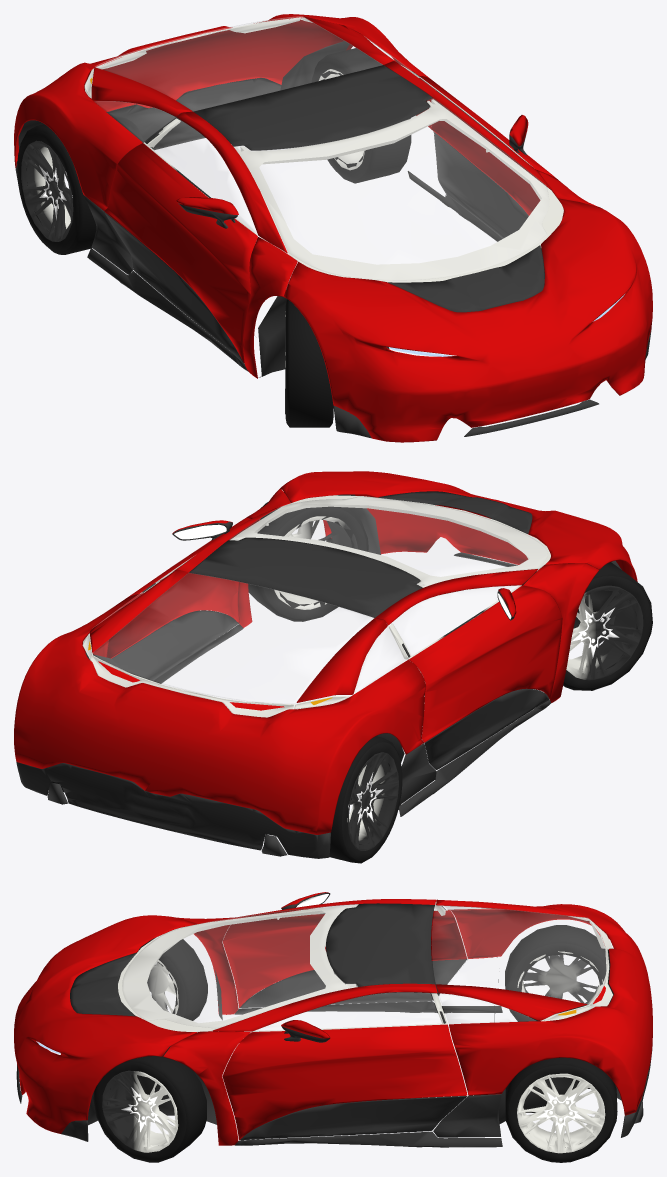
File: car_bot.glb
3 renders of one model, top to bottom at view 1: azimuth 30°, elevation 25°; view 2: azimuth 150°, elevation 25°; view 3: azimuth 270°, elevation 25°, orthographic. The views are drawn at different scales.
Visible parts, largest first — view 1: BodyHood, BodyWindshield, BodyRearPanelsColor1, BodyRearwindow, BodyDoorRColor1, BodyWindshieldGasket, BodyRoofPanel, BodyPanelsColor2, BodyPillars, BodyHoodTopgrill, WheelFrontR, BodyDoorLColor2 (+10 smaller); view 2: BodyRearPanelsColor1, BodyRearwindow, BodyWindshield, BodyPanelsColor2, BodyDoorRColor1, BodyHood, BodyRoofPanel, BodyPillars, BodyWindshieldGasket, WheelFrontRRim, BodyDoorLColor1, BodyDoorLColor2 (+11 smaller); view 3: BodyRearPanelsColor1, BodyWindshield, BodyDoorLColor1, BodyHood, BodyRearwindow, BodyPillars, BodyRoofPanel, BodyPanelsColor2, BodyDoorRColor1, BodyWindshieldGasket, BodyDoorLColor2, WheelFrontL (+14 smaller).
Boxes of the visible parts, bbox=[...] form: BodyHood: bbox=[284, 198, 652, 442]; BodyWindshield: bbox=[234, 98, 549, 280]; BodyRearPanelsColor1: bbox=[14, 14, 435, 210]; BodyRearwindow: bbox=[95, 16, 382, 110]; BodyDoorRColor1: bbox=[104, 143, 257, 363]; BodyWindshieldGasket: bbox=[234, 99, 563, 282]; BodyRoofPanel: bbox=[193, 65, 432, 150]; BodyPanelsColor2: bbox=[15, 77, 651, 438]; BodyPillars: bbox=[176, 61, 599, 378]; BodyHoodTopgrill: bbox=[388, 245, 544, 312]; WheelFrontR: bbox=[285, 299, 333, 427]; BodyDoorLColor2: bbox=[434, 132, 528, 238]; BodyRearPanelsColor1: bbox=[14, 569, 425, 834]; BodyRearwindow: bbox=[92, 573, 373, 703]; BodyWindshield: bbox=[229, 496, 547, 587]; BodyPanelsColor2: bbox=[16, 537, 551, 858]; BodyDoorRColor1: bbox=[409, 585, 562, 742]; BodyHood: bbox=[278, 471, 637, 581]; BodyRoofPanel: bbox=[189, 537, 422, 617]; BodyPillars: bbox=[175, 489, 599, 702]; BodyWindshieldGasket: bbox=[230, 495, 550, 587]; WheelFrontRRim: bbox=[566, 585, 643, 680]; BodyDoorLColor1: bbox=[106, 517, 250, 658]; BodyDoorLColor2: bbox=[112, 610, 238, 680]; BodyRearPanelsColor1: bbox=[436, 899, 652, 1115]; BodyWindshield: bbox=[122, 904, 357, 1028]; BodyDoorLColor1: bbox=[222, 1024, 467, 1139]; BodyHood: bbox=[14, 915, 196, 1133]; BodyRearwindow: bbox=[431, 905, 606, 1003]; BodyPillars: bbox=[163, 899, 437, 1145]; BodyRoofPanel: bbox=[326, 903, 434, 986]; BodyPanelsColor2: bbox=[16, 957, 652, 1147]; BodyDoorRColor1: bbox=[222, 909, 467, 1007]; BodyWindshieldGasket: bbox=[118, 905, 357, 1032]; BodyDoorLColor2: bbox=[240, 1096, 467, 1140]; WheelFrontL: bbox=[93, 1050, 206, 1162].
Size of the model in its own units: 2.54 by 1.15 by 4.36.
13 materials, 2 textured.
